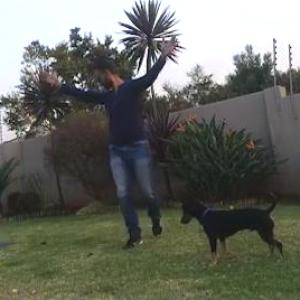takeoff: (24, 29, 192, 239)
